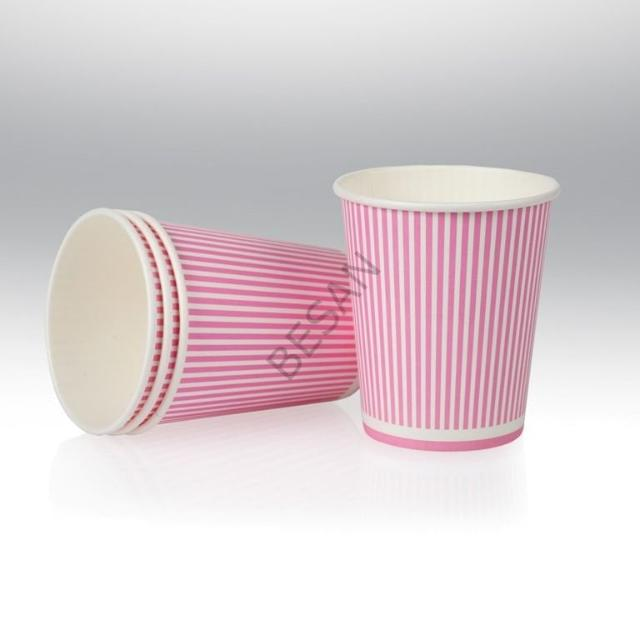trash: (52, 188, 350, 494), (332, 165, 568, 458)
